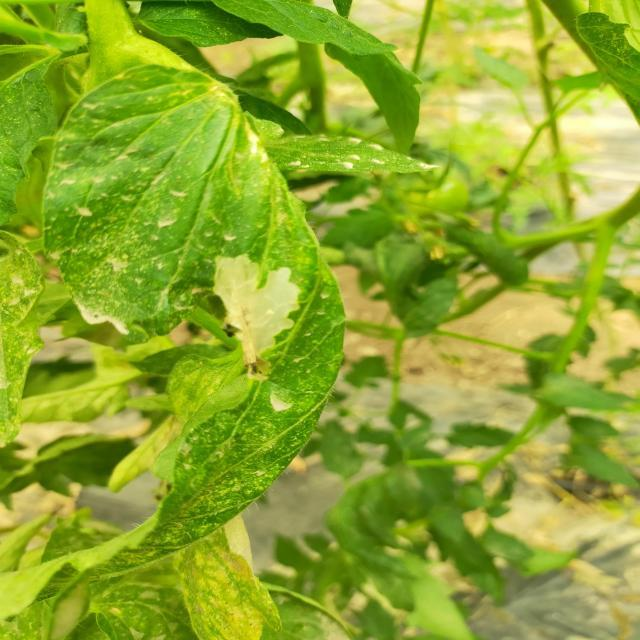Tuta absoluta: (202, 233, 324, 380)
